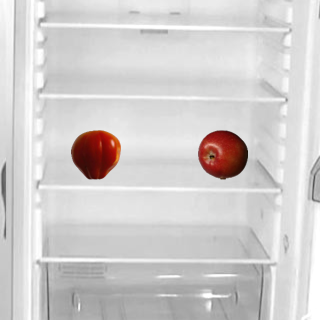Apple Braeburn: (197, 129, 247, 179)
Tomato 1: (70, 129, 120, 179)
